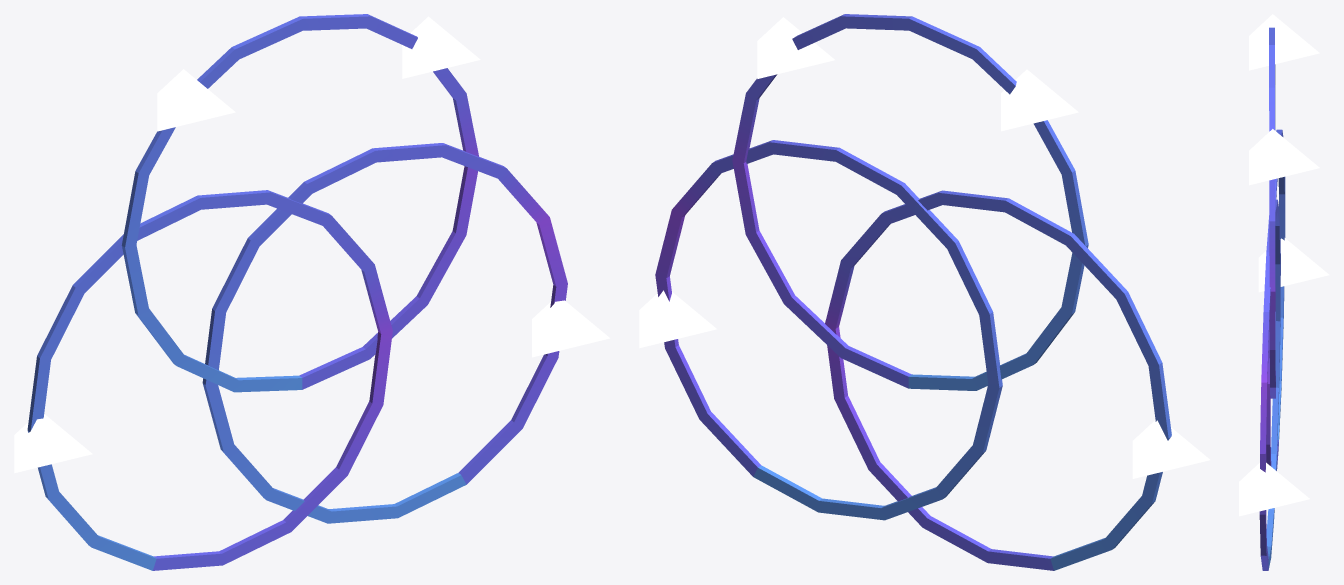
File: Triqueta_N.glb
3 renders of one model, left to right at view 1: azimuth 30°, elevation 25°; view 2: azimuth 150°, elevation 25°; view 3: azimuth 270°, elevation 25°, orthographic. The views are drawn at different scales.
Visible parts, largest first — view 1: Cone.003; view 2: Cone.003; view 3: Cone.003.
Boxes of the visible parts, x1,y1,x2,y2 form: Cone.003: (14,14,609,570); Cone.003: (639,14,1209,570); Cone.003: (1239,14,1329,570).
Size of what is drawn, in the model's own units: 1.83 by 1.58 by 0.2709.
2 materials, 1 textured.
